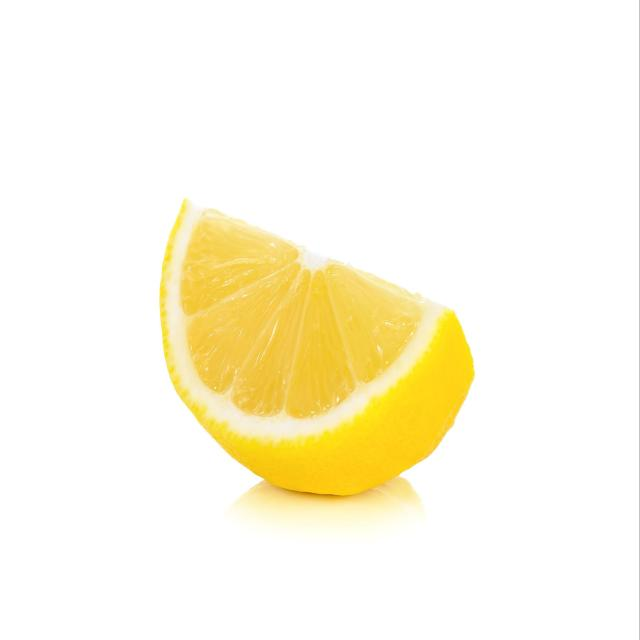lemon: (156, 185, 480, 502)
